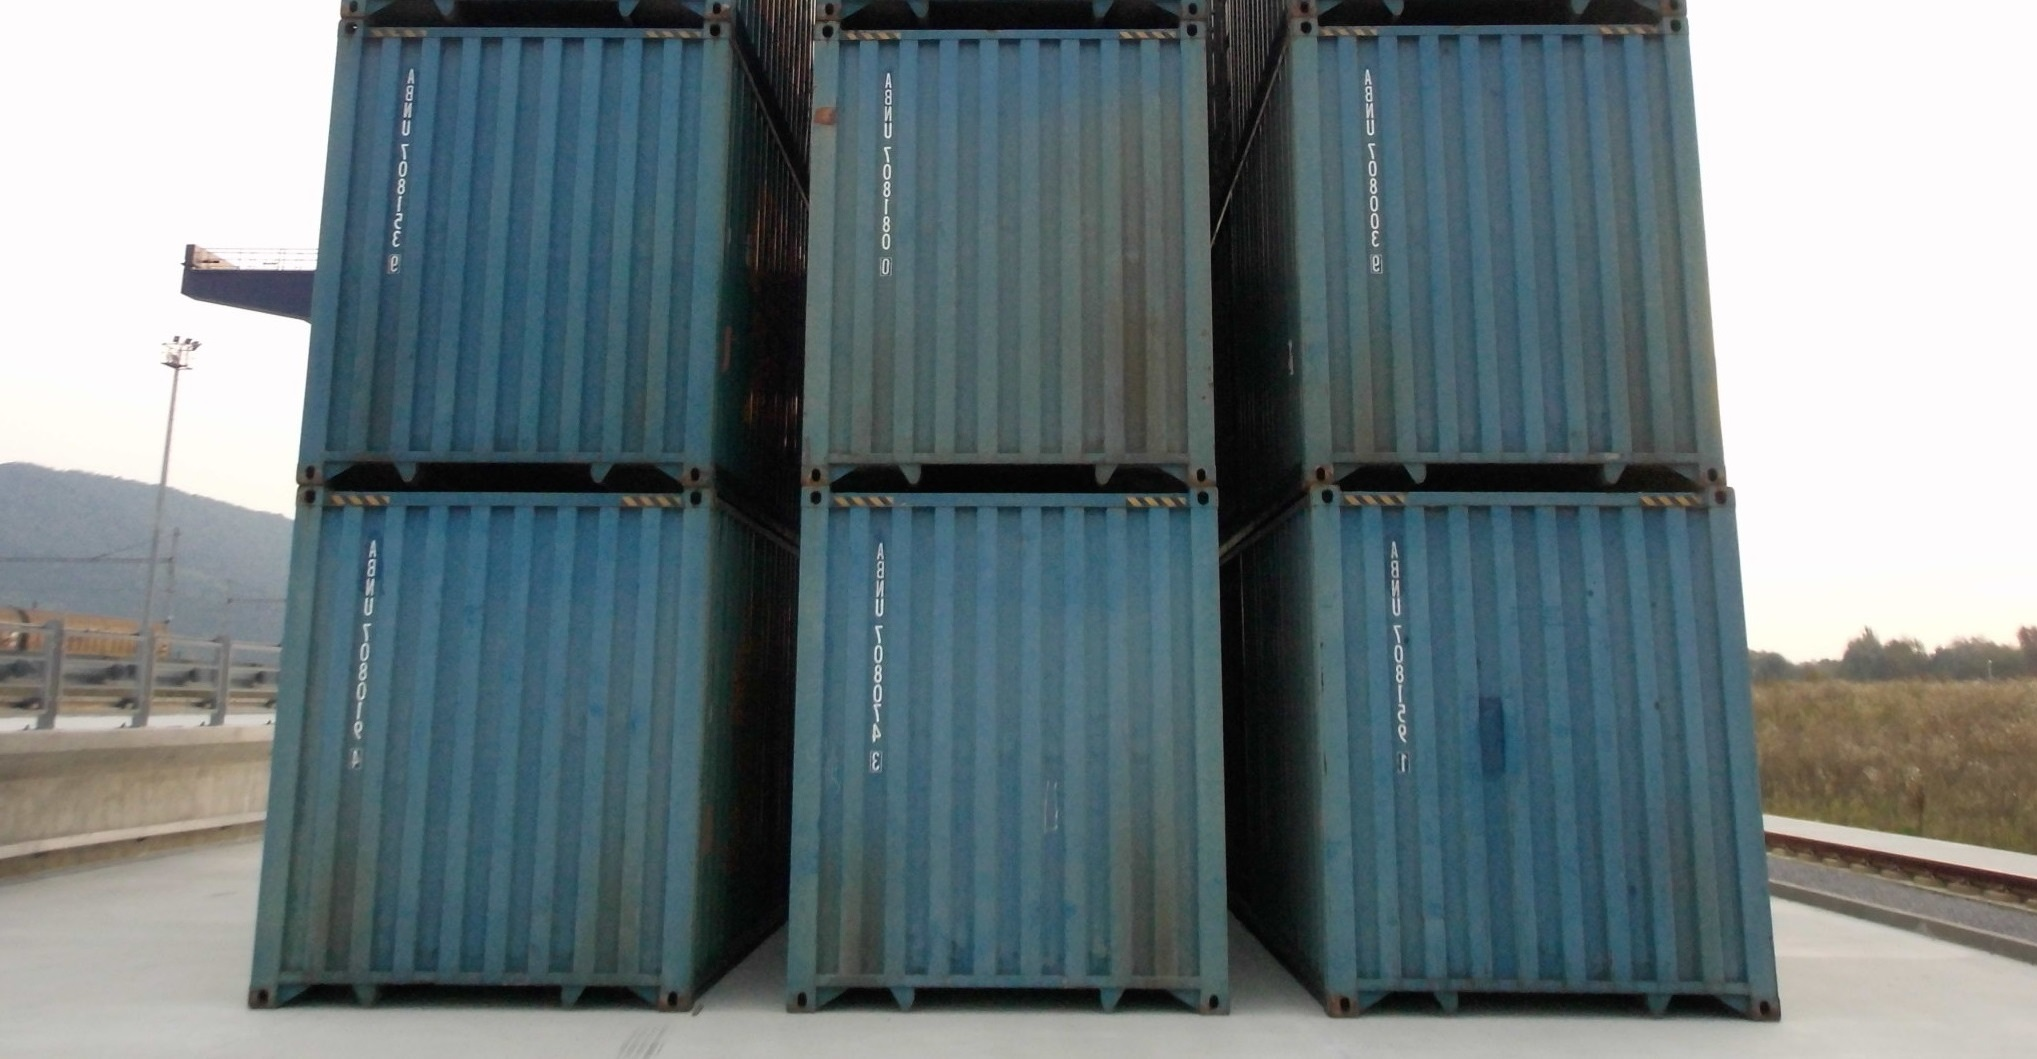container_no_door: (1305, 490, 1789, 1010), (248, 493, 697, 1021), (777, 482, 1225, 1010), (1291, 7, 1730, 490), (286, 23, 742, 488), (789, 18, 1215, 480)
